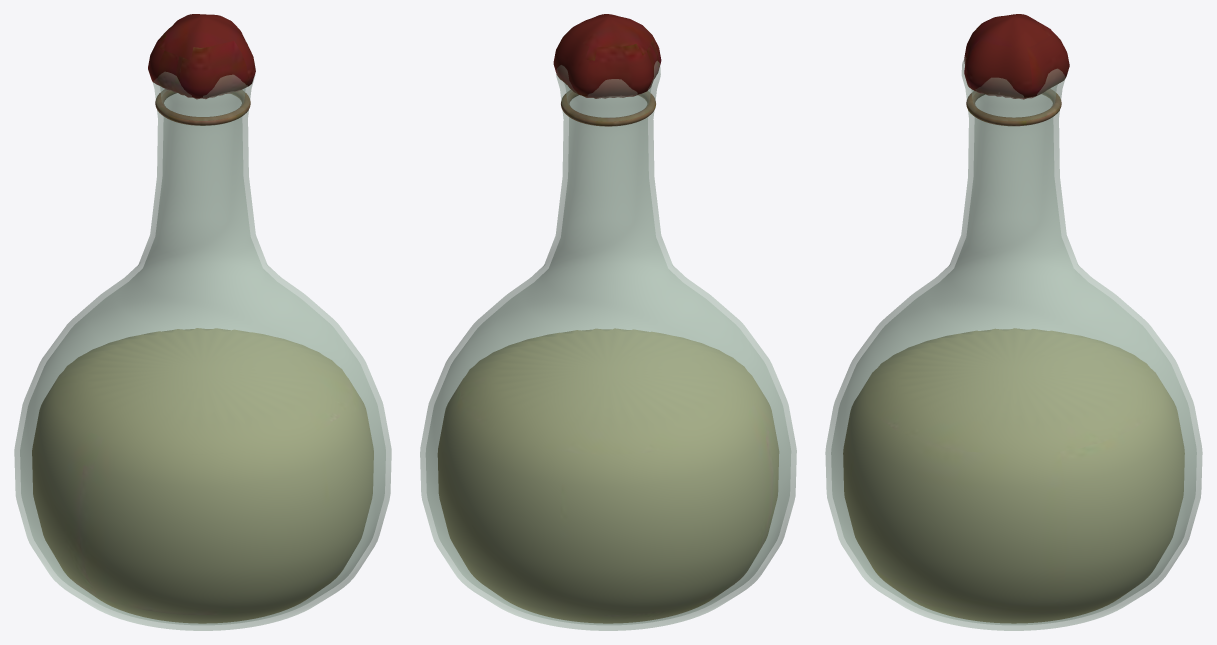
The model's file is sage_decoction.glb.
3 renders of one model, left to right at view 1: azimuth 30°, elevation 25°; view 2: azimuth 150°, elevation 25°; view 3: azimuth 270°, elevation 25°, orthographic.
Visible parts, largest first — view 1: glass, sage_decoction; view 2: glass, sage_decoction; view 3: glass, sage_decoction.
Part boxes in pixels (x1,y1,x2,y2): glass: (14,72,391,630); sage_decoction: (32,14,373,623); glass: (420,61,796,630); sage_decoction: (437,14,779,623); glass: (825,57,1202,630); sage_decoction: (843,14,1184,623).
Size of the model in its own units: 0.1024 by 0.1737 by 0.1024.
Materials: 2 (1 with a texture image).
